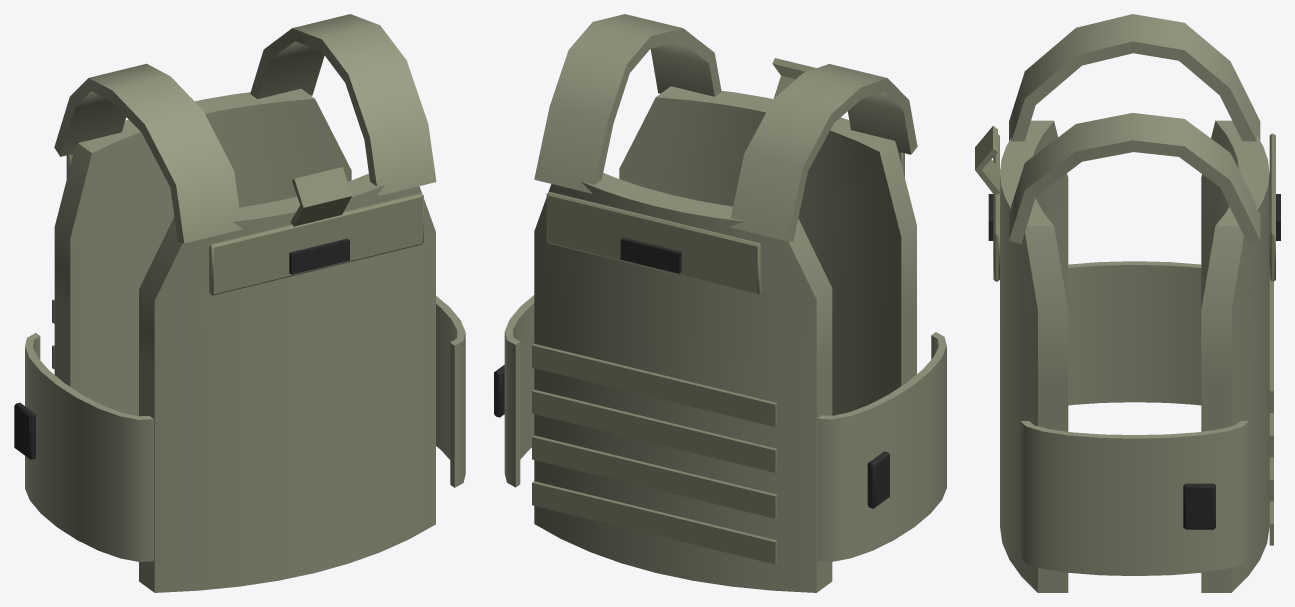
File: vest.glb
3 views of the same model, side by side, from view 1: azimuth 30°, elevation 25°; view 2: azimuth 150°, elevation 25°; view 3: azimuth 270°, elevation 25° (orthographic). The views are drawn at different scales.
Parts seen in each view (by area): view 1: vest; view 2: vest; view 3: vest.
Boxes of the visible parts, x1=… form: vest: x1=14, y1=14, x2=465, y2=592; vest: x1=494, y1=14, x2=946, y2=592; vest: x1=975, y1=14, x2=1280, y2=592.
Size of what is drawn, in the model's own units: 0.392 by 0.458 by 0.2825.
